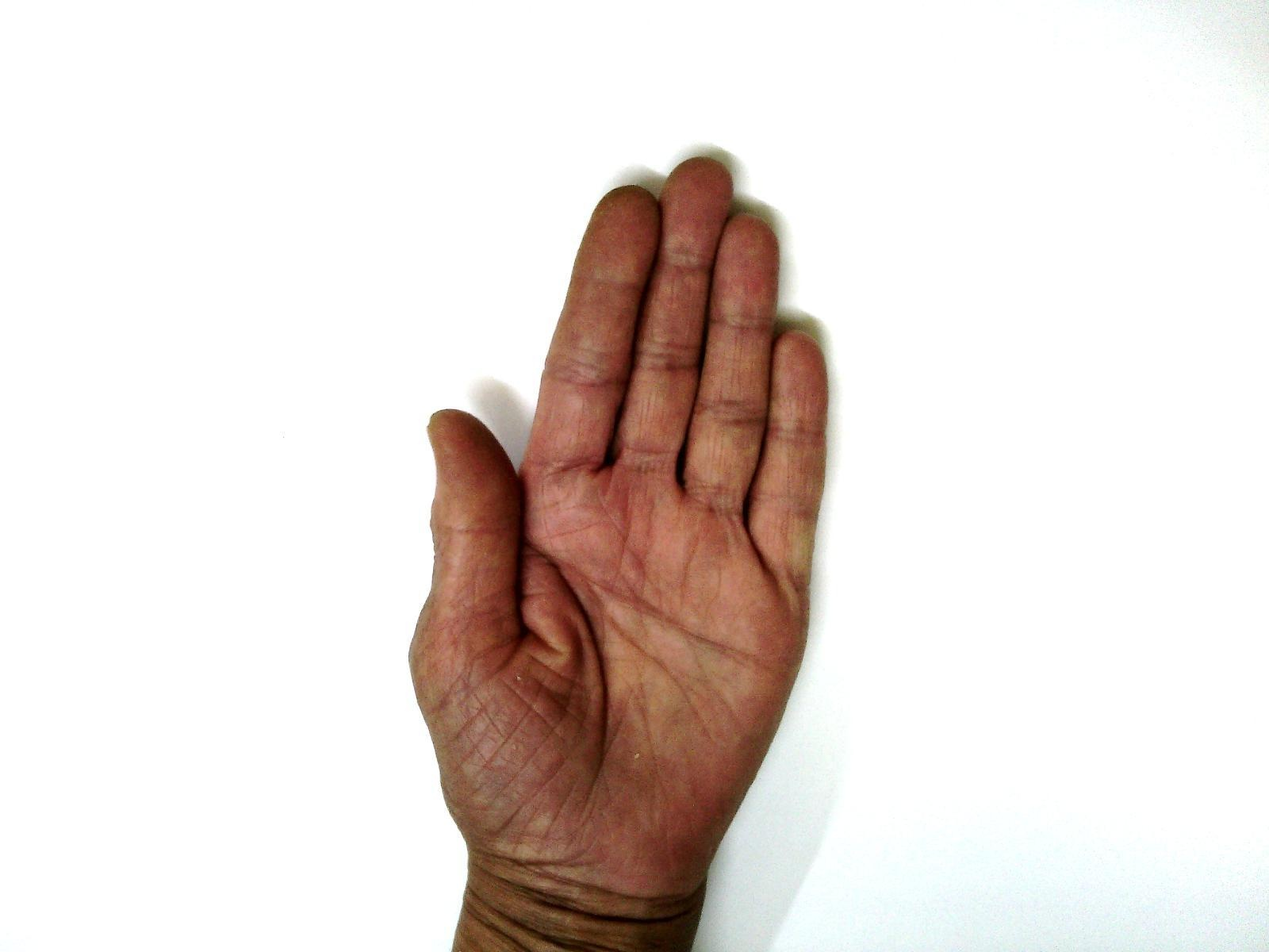open_palm: (407, 155, 834, 905)
